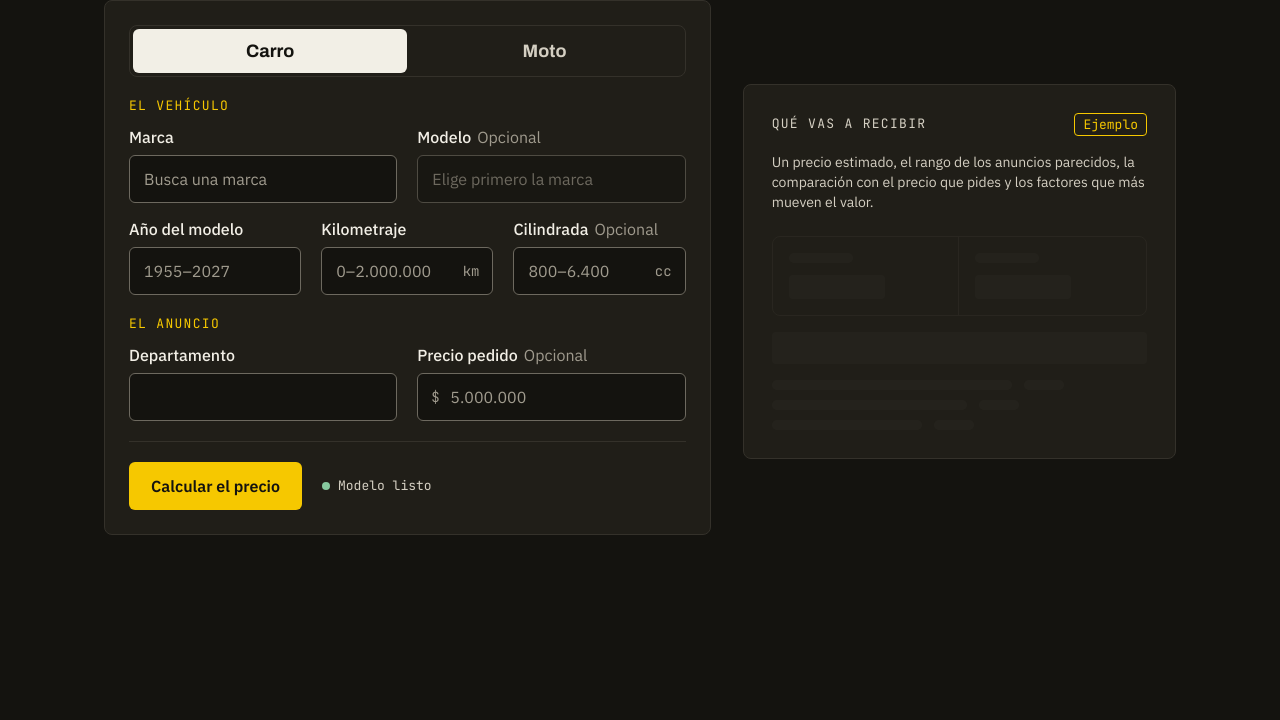
it: the displacement error › groups its bounds the way the placeholder does
Expected: the text "Modelo listo" is shown, [322,477,432,496]
Type "50" into the field labelled "Cilindrada" at (600, 271), box [513,247,686,295]
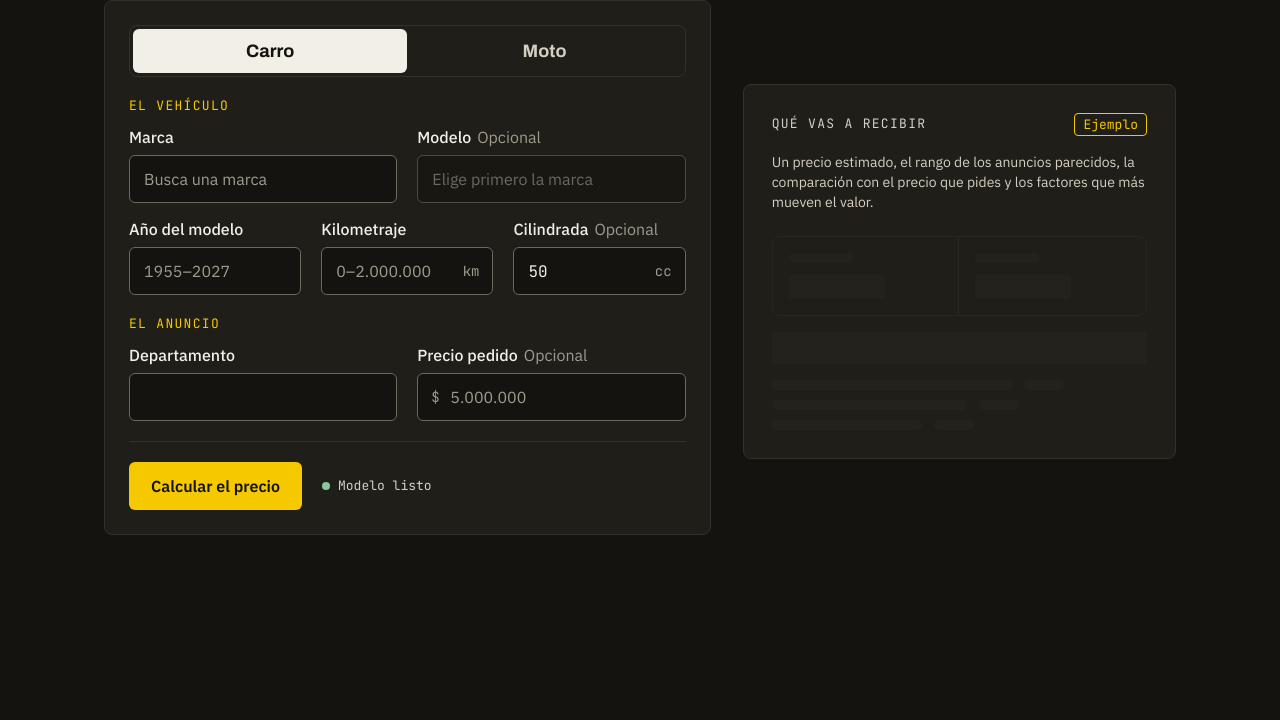
Leave the field labelled "Cilindrada", box [513,247,686,295]
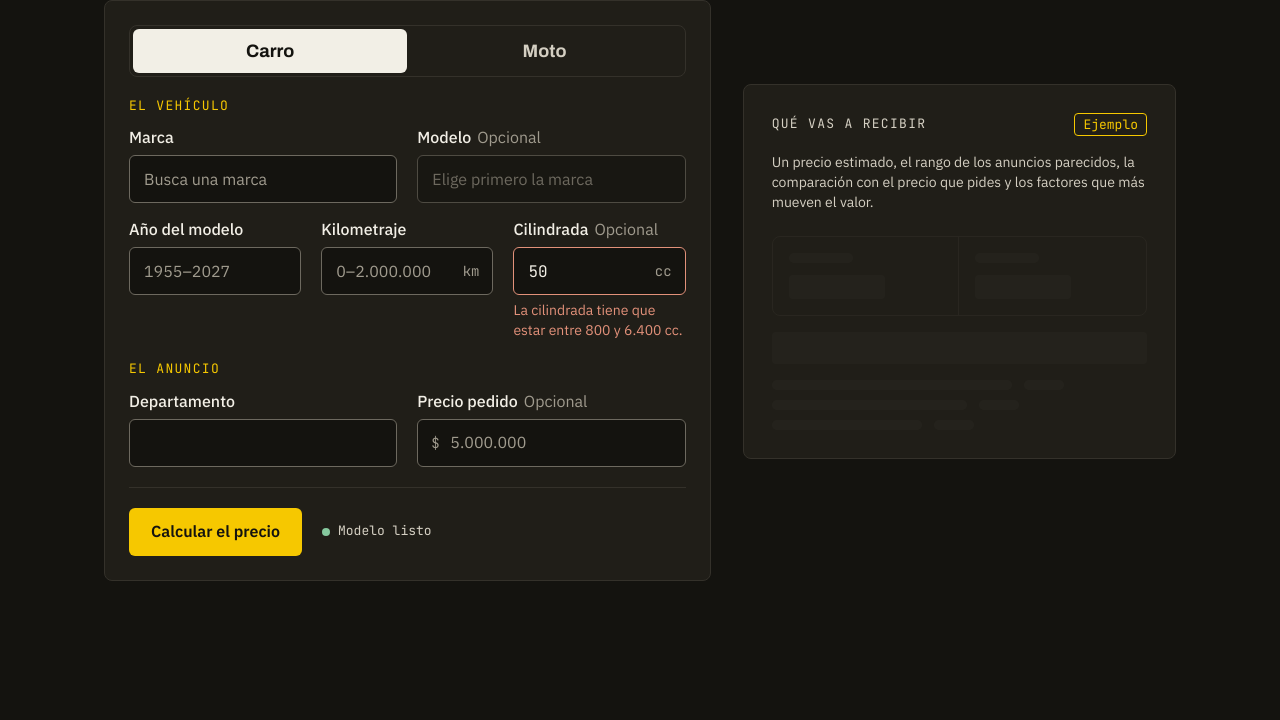
Now the text "La cilindrada tiene que estar entre 800 y 6.400 cc." is shown, box [513,301,686,340]
